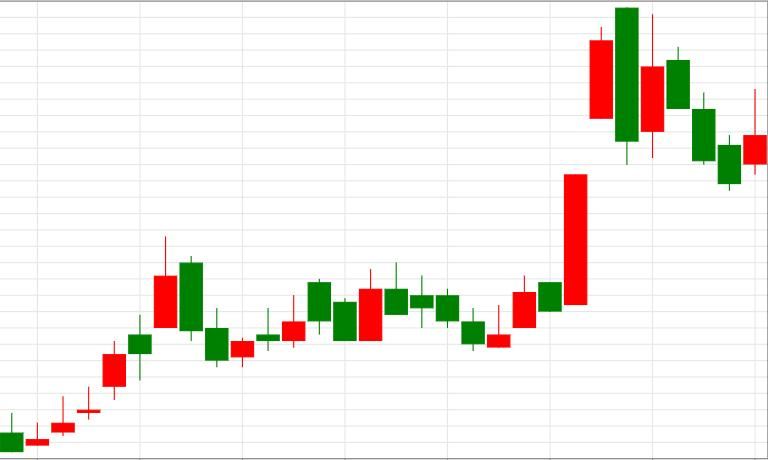bearish_engulfing_fall: (486, 7, 638, 348)
